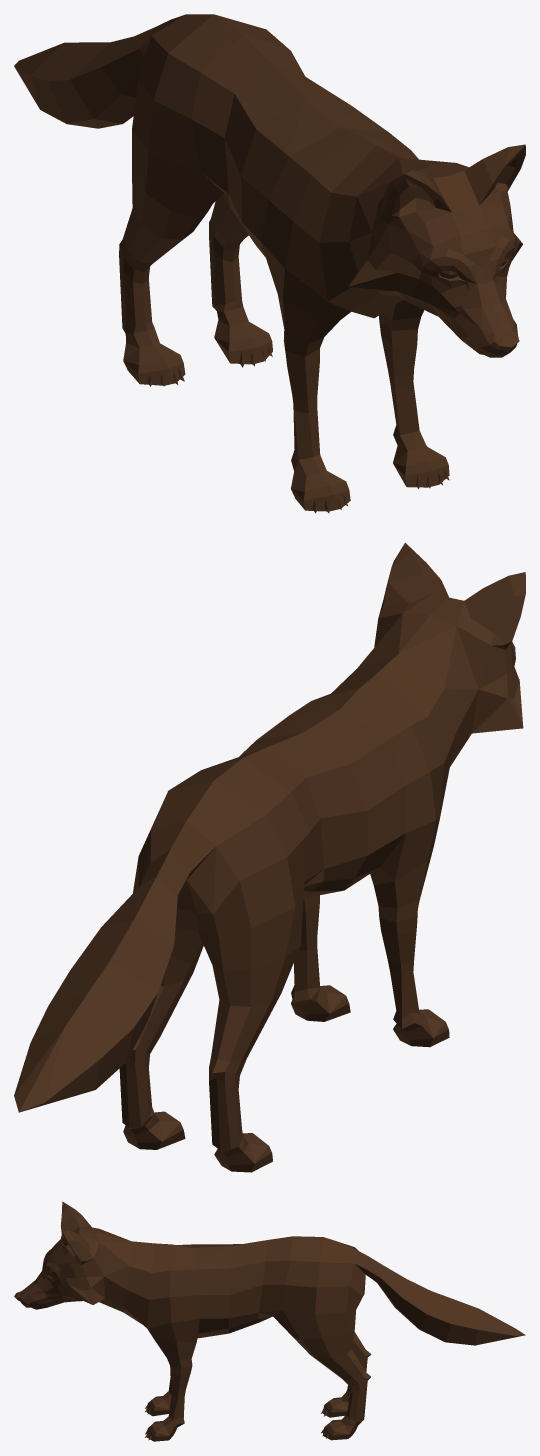
Rendered from Fox.FBX.
3 renders of one model, top to bottom at view 1: azimuth 30°, elevation 25°; view 2: azimuth 150°, elevation 25°; view 3: azimuth 270°, elevation 25°, orthographic. The views are drawn at different scales.
Visible parts, largest first — view 1: Fox; view 2: Fox; view 3: Fox.
Part boxes in pixels (x1=…): Fox: x1=14, y1=14, x2=525, y2=513; Fox: x1=14, y1=542, x2=525, y2=1172; Fox: x1=14, y1=1201, x2=525, y2=1441.
Bounding box in the file's own units: 49.92 × 109 × 244.
